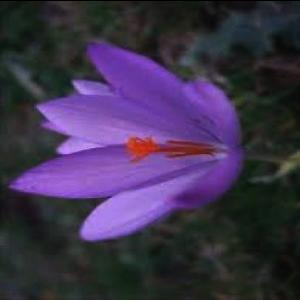Saffron: (7, 39, 250, 241)
